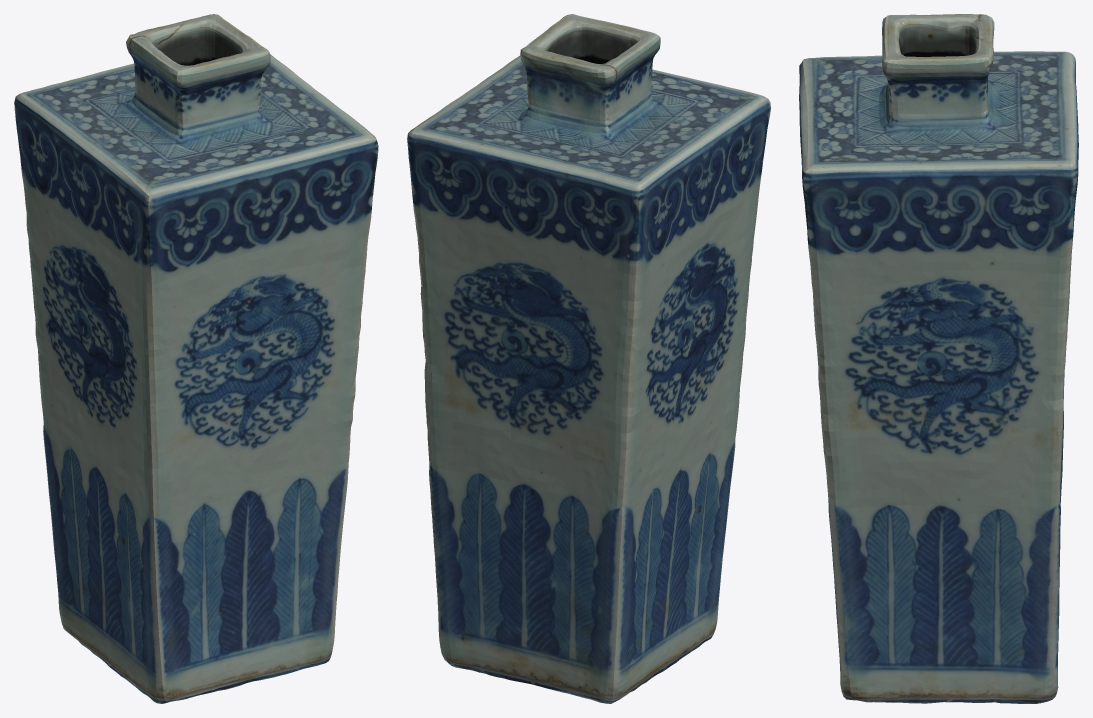
3 renders of one model, left to right at view 1: azimuth 30°, elevation 25°; view 2: azimuth 150°, elevation 25°; view 3: azimuth 270°, elevation 25°, orthographic. The views are drawn at different scales.
Visible parts, largest first — view 1: geometry_0; view 2: geometry_0; view 3: geometry_0.
Boxes of the visible parts, x1=… form: geometry_0: x1=14, y1=14, x2=378, y2=703; geometry_0: x1=407, y1=14, x2=770, y2=703; geometry_0: x1=799, y1=14, x2=1078, y2=703.
Size of the model in its own units: 0.4067 by 1 by 0.4054.
1 material, 1 textured.
